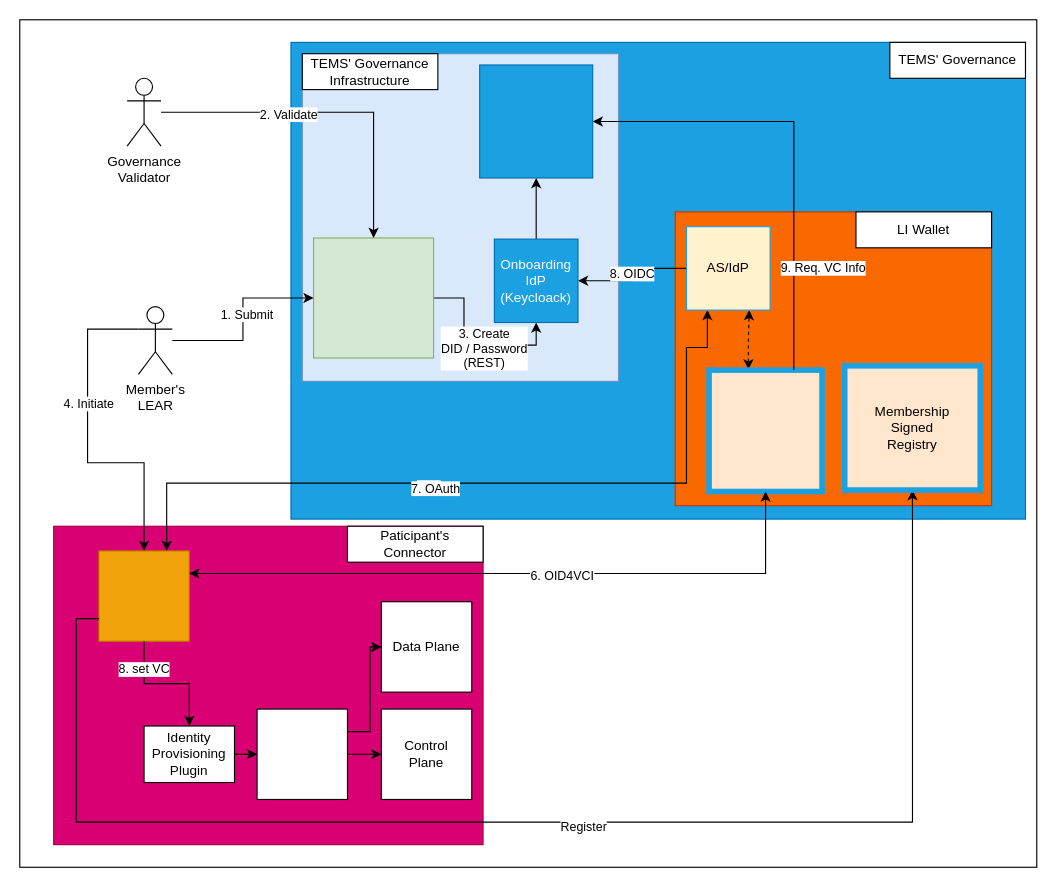
Image size: 1057x887. Some labels were removed from this diagram. Each missing label, with the centre of its shape:
Claim Provider: [536,121]
Identity Hub: [301,753]
Issuance Server: [765,430]
Onboarding UI: [143,595]
Onboarding UI and Backend: [373,297]
